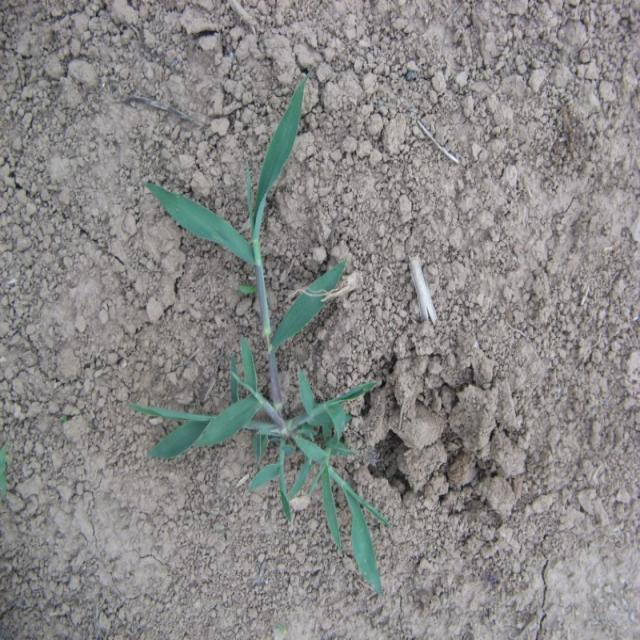bg: (146, 78, 395, 592)
